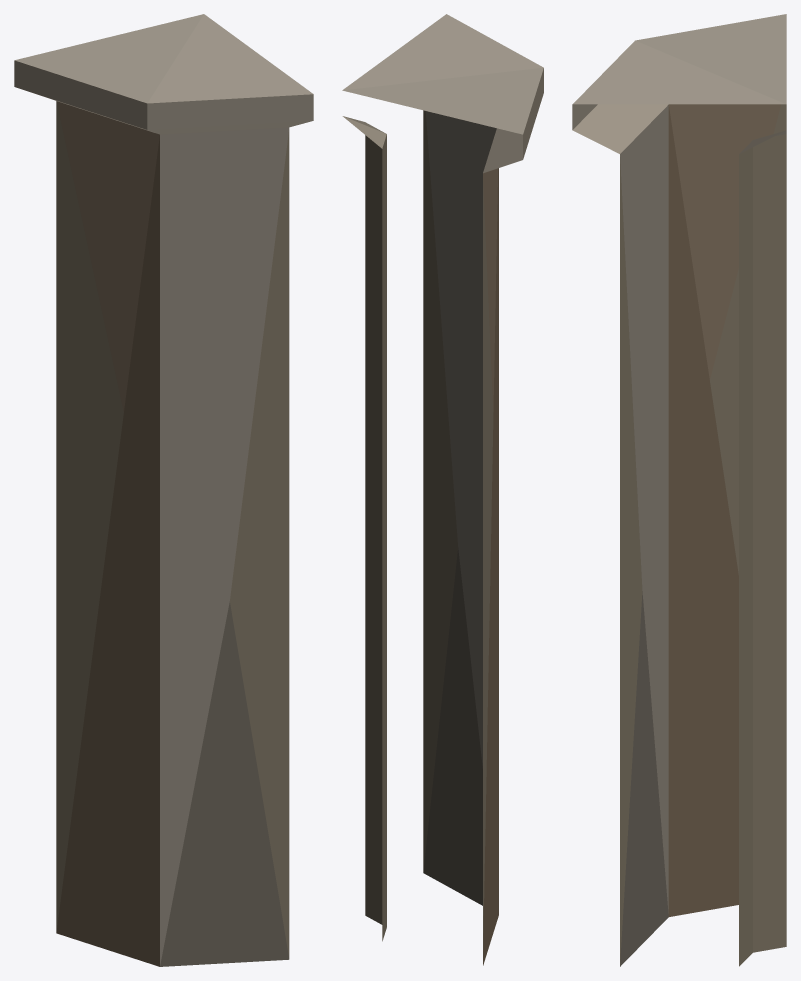
File: Wall_A-Corner.fbx
3 views of the same model, side by side, from view 1: azimuth 30°, elevation 25°; view 2: azimuth 150°, elevation 25°; view 3: azimuth 270°, elevation 25° (orthographic). The views are drawn at different scales.
Visible parts, largest first — view 1: Wall_A-Corner; view 2: Wall_A-Corner; view 3: Wall_A-Corner.
Boxes of the visible parts, <box> form: Wall_A-Corner: <box>14,14,313,966</box>; Wall_A-Corner: <box>342,14,543,965</box>; Wall_A-Corner: <box>572,14,786,966</box>.
Bounding box in the file's own units: 45 × 200 × 45.
